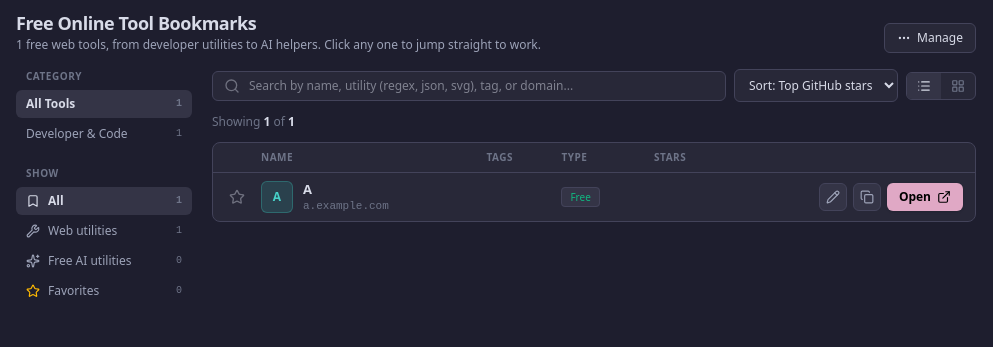
Test case: BookmarksPage views › switches to grid and remembers it
Click the button named "Grid view" at {"x": 958, "y": 86}, box [941,72,975,98]
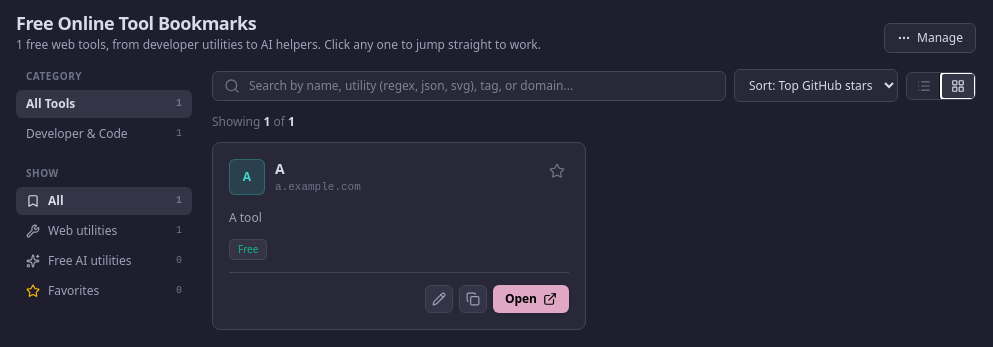
Check: the table is gone
